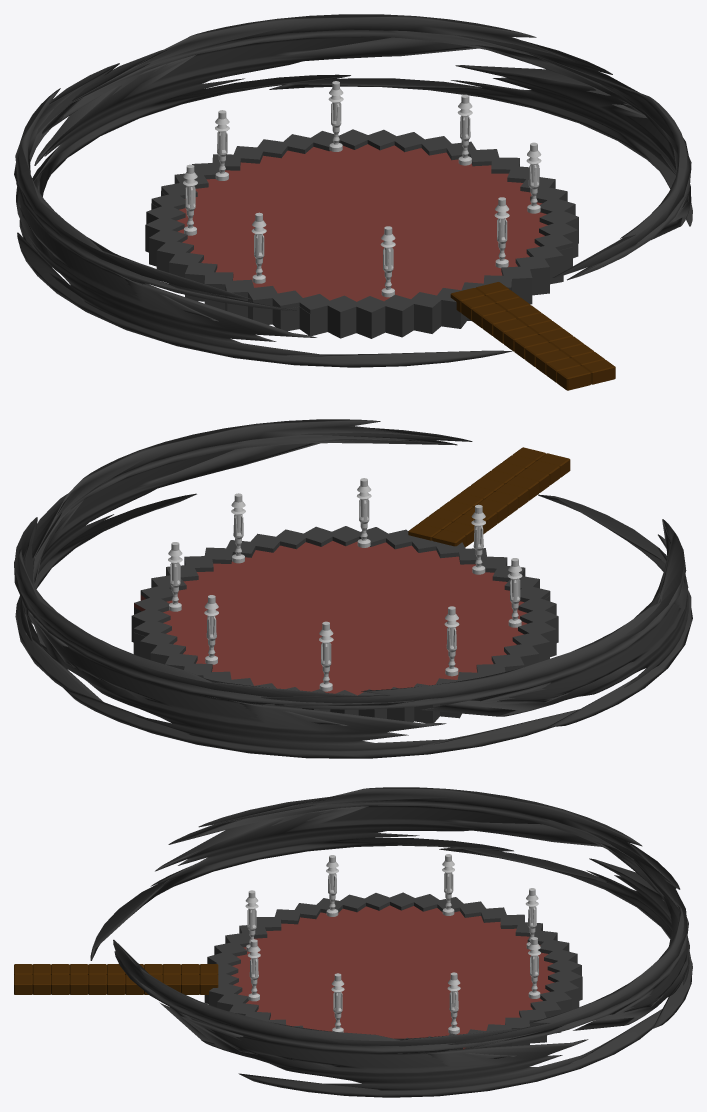
The model's file is BOSS_Steage.fbx.
3 renders of one model, top to bottom at view 1: azimuth 30°, elevation 25°; view 2: azimuth 150°, elevation 25°; view 3: azimuth 270°, elevation 25°, orthographic. The views are drawn at different scales.
Parts seen in each view (by area): view 1: 柱.001, 土台, 土台.001, 立方体, 柱; view 2: 柱.001, 土台, 土台.001, 立方体, 柱; view 3: 柱.001, 土台, 土台.001, 立方体, 柱.
Boxes of the visible parts, <box> form: 柱.001: <box>14,14,692,367</box>; 土台: <box>176,144,578,301</box>; 土台.001: <box>145,129,578,338</box>; 立方体: <box>450,282,615,390</box>; 柱: <box>183,81,541,297</box>; 柱.001: <box>14,419,692,758</box>; 土台: <box>134,541,527,695</box>; 土台.001: <box>131,526,558,723</box>; 立方体: <box>408,447,570,547</box>; 柱: <box>168,478,522,691</box>; 柱.001: <box>90,787,692,1097</box>; 土台: <box>231,905,554,1049</box>; 土台.001: <box>204,892,582,1050</box>; 立方体: <box>14,964,218,994</box>; 柱: <box>245,854,540,1034</box>.
Size of the model in its own units: 1467 by 10970 by 9688.
